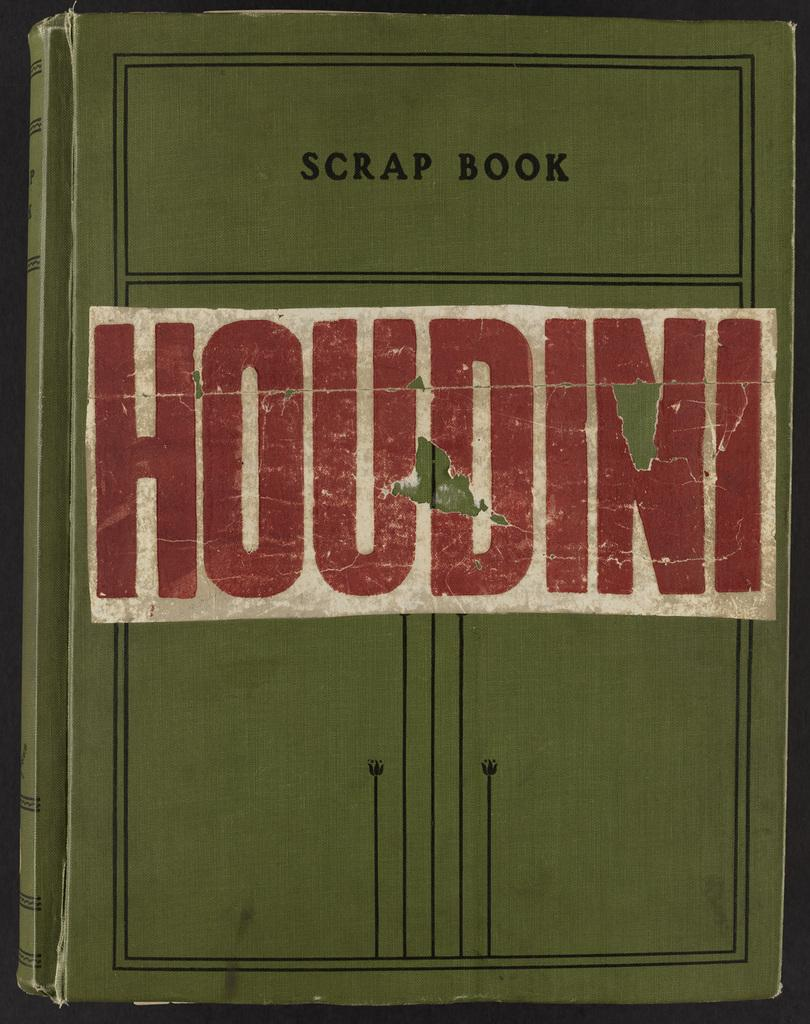book: (16, 9, 794, 1001)
